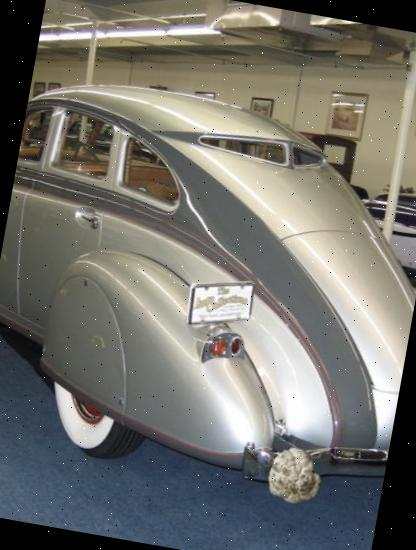Cauliflower: (261, 442, 328, 508)
